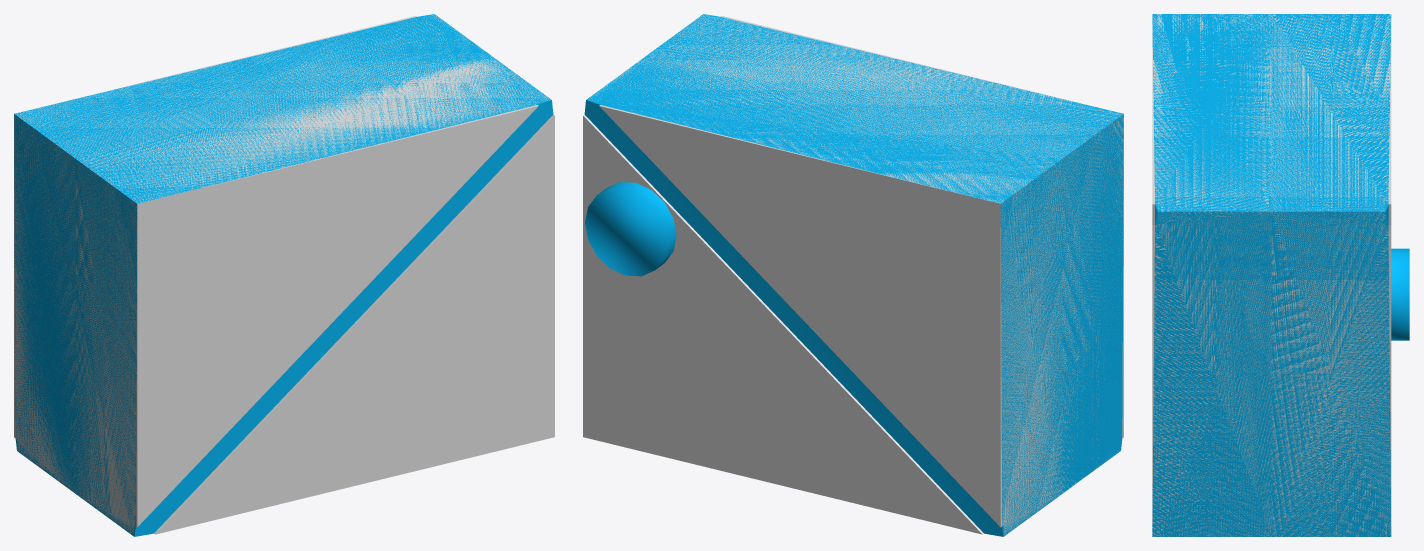
The model's file is laspistol_mag_final.fbx.
The picture shows the model from 3 angles, left to right: view 1: azimuth 30°, elevation 25°; view 2: azimuth 150°, elevation 25°; view 3: azimuth 270°, elevation 25°; orthographic projection. The views are drawn at different scales.
Parts seen in each view (by area): view 1: laspistol_mag_LOD0, UTM_firegeo; view 2: laspistol_mag_LOD0, UTM_firegeo; view 3: UTM_firegeo, laspistol_mag_LOD0.
Boxes of the visible parts, bbox=[...] form: laspistol_mag_LOD0: bbox=[14, 14, 554, 536]; UTM_firegeo: bbox=[14, 14, 553, 536]; laspistol_mag_LOD0: bbox=[583, 15, 1123, 535]; UTM_firegeo: bbox=[584, 14, 1123, 536]; UTM_firegeo: bbox=[1152, 14, 1409, 536]; laspistol_mag_LOD0: bbox=[1152, 14, 1391, 536].
Size of what is drawn, in the model's own units: 7.18 by 5.5 by 3.95.
